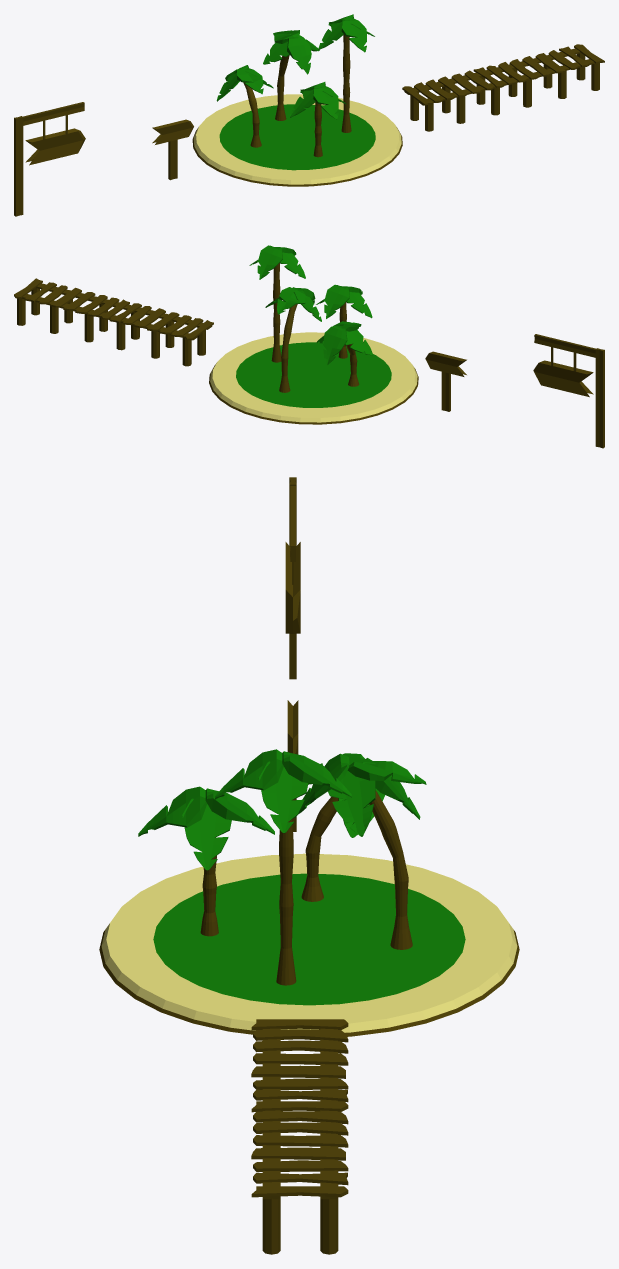
File: enivroment.fbx
The picture shows the model from 3 angles, top to bottom: view 1: azimuth 30°, elevation 25°; view 2: azimuth 150°, elevation 25°; view 3: azimuth 270°, elevation 25°; orthographic projection. The views are drawn at different scales.
Parts seen in each view (by area): view 1: Cylinder, Cube.037, Cube.035, Cylinder.003, Cube.034, Cube.016, Cube.036, Cube.003, Cube.011, Cylinder.004, Cylinder.002, Cube.007 (+7 smaller); view 2: Cylinder, Cube.037, Cube.035, Cylinder.004, Cube.034, Cylinder.003, Cube.008, Cube.036, Cube.004, Cube.012, Cube.015, Cube.005 (+6 smaller); view 3: Cylinder, Cylinder.004, Cylinder.003, Cube.013, Cube.010, Cube.002, Cube.011, Cube.003, Cylinder.002, Cube.012, Cube.037, Cube.004 (+14 smaller).
Part boxes in pixels (x1=…): Cylinder: x1=192, y1=94, x2=402, y2=186; Cube.037: x1=25, y1=128, x2=85, y2=165; Cube.035: x1=14, y1=116, x2=23, y2=216; Cylinder.003: x1=341, y1=34, x2=351, y2=132; Cube.034: x1=152, y1=119, x2=193, y2=144; Cube.016: x1=287, y1=35, x2=311, y2=74; Cube.036: x1=23, y1=102, x2=84, y2=125; Cube.003: x1=313, y1=86, x2=338, y2=119; Cube.011: x1=341, y1=18, x2=366, y2=52; Cylinder.004: x1=275, y1=55, x2=289, y2=120; Cylinder.002: x1=243, y1=82, x2=261, y2=147; Cube.007: x1=237, y1=68, x2=263, y2=94; Cylinder: x1=209, y1=332, x2=418, y2=424; Cube.037: x1=533, y1=360, x2=593, y2=397; Cube.035: x1=595, y1=348, x2=604, y2=448; Cylinder.004: x1=279, y1=304, x2=297, y2=392; Cube.034: x1=425, y1=351, x2=466, y2=376; Cylinder.003: x1=271, y1=263, x2=281, y2=362; Cube.008: x1=323, y1=326, x2=347, y2=364; Cube.036: x1=534, y1=334, x2=595, y2=357; Cube.004: x1=324, y1=284, x2=349, y2=318; Cube.012: x1=257, y1=245, x2=282, y2=279; Cube.015: x1=277, y1=287, x2=305, y2=314; Cube.005: x1=345, y1=330, x2=372, y2=355; Cylinder: x1=99, y1=853, x2=519, y2=1036; Cylinder.004: x1=369, y1=790, x2=412, y2=949; Cylinder.003: x1=276, y1=819, x2=296, y2=985; Cube.013: x1=328, y1=771, x2=375, y2=836; Cube.010: x1=258, y1=761, x2=308, y2=833; Cube.002: x1=182, y1=798, x2=231, y2=870; Cube.011: x1=215, y1=749, x2=283, y2=799; Cube.003: x1=138, y1=786, x2=207, y2=836; Cylinder.002: x1=301, y1=796, x2=338, y2=901; Cube.012: x1=282, y1=751, x2=351, y2=797; Cube.037: x1=285, y1=542, x2=300, y2=633; Cube.004: x1=205, y1=788, x2=274, y2=834.
Bounding box in the file's own units: 5282 × 1128 × 1663.
